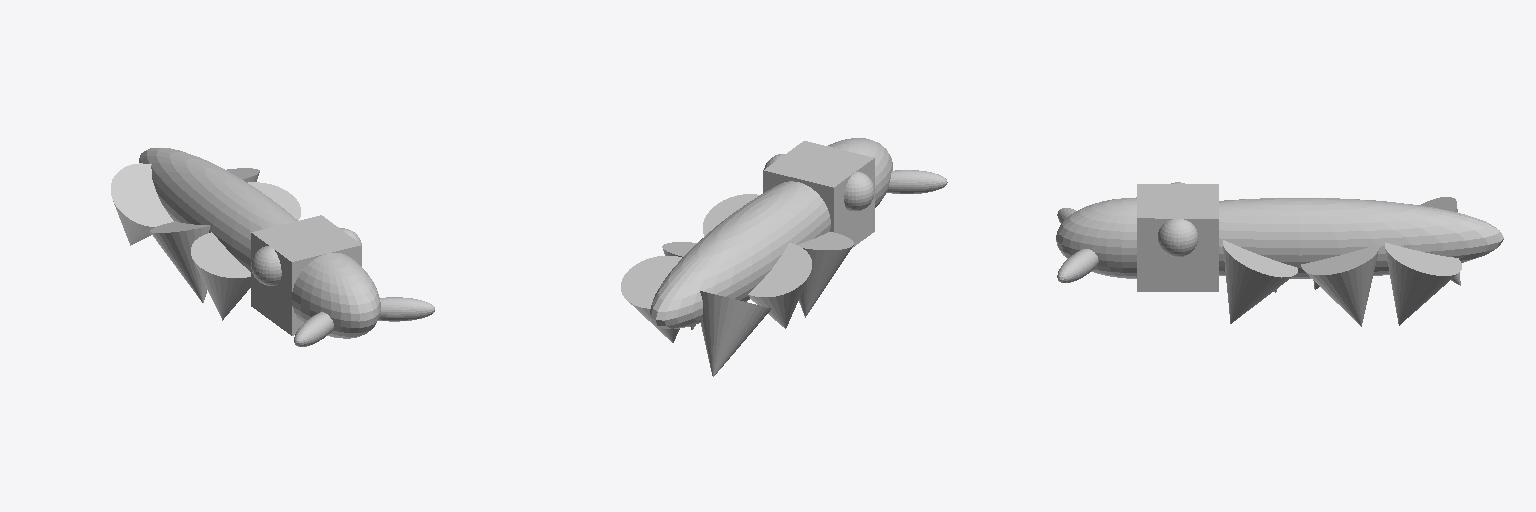
The model's file is Lice2.obj.
3 renders of one model, left to right at view 1: azimuth 30°, elevation 25°; view 2: azimuth 150°, elevation 25°; view 3: azimuth 270°, elevation 25°, orthographic.
Parts seen in each view (by area): view 1: Sphere.005, Cube.001, Sphere, Cone.005, Cone, Cone.004, Sphere.004, Sphere.001, Sphere.003, Cone.002; view 2: Sphere.005, Cube.001, Cone.005, Cone.004, Cone, Cone.003, Sphere, Sphere.003, Sphere.001, Cone.001; view 3: Sphere.005, Cube.001, Sphere, Cone.003, Cone.001, Cone.002, Sphere.002, Sphere.004.
Boxes of the visible parts, x1,y1,x2,y2 form: Sphere.005: [139, 148, 297, 271]; Cube.001: [251, 215, 361, 335]; Sphere: [292, 253, 380, 338]; Cone.005: [111, 163, 173, 245]; Cone: [191, 232, 250, 320]; Cone.004: [150, 221, 210, 302]; Sphere.004: [378, 297, 434, 321]; Sphere.001: [251, 246, 281, 285]; Sphere.003: [294, 312, 333, 346]; Cone.002: [248, 182, 300, 220]; Sphere.005: [650, 181, 830, 328]; Cube.001: [763, 141, 874, 247]; Cone.005: [700, 291, 770, 376]; Cone.004: [748, 243, 811, 328]; Cone: [798, 232, 853, 317]; Cone.003: [621, 256, 681, 342]; Sphere: [828, 138, 892, 207]; Sphere.003: [887, 170, 947, 193]; Sphere.001: [844, 171, 874, 211]; Cone.001: [703, 194, 759, 236]; Sphere.005: [1219, 198, 1503, 278]; Cube.001: [1137, 184, 1218, 291]; Sphere: [1056, 197, 1136, 278]; Cone.003: [1385, 242, 1461, 325]; Cone.001: [1223, 240, 1297, 323]; Cone.002: [1301, 244, 1379, 326]; Sphere.002: [1158, 219, 1197, 256]; Sphere.004: [1057, 249, 1098, 282].
Size of the model in its own units: 4 by 2.96 by 11.